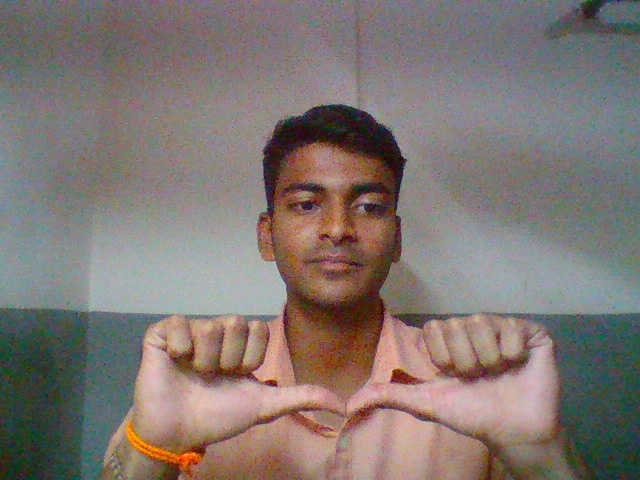A: (127, 306, 580, 448)
